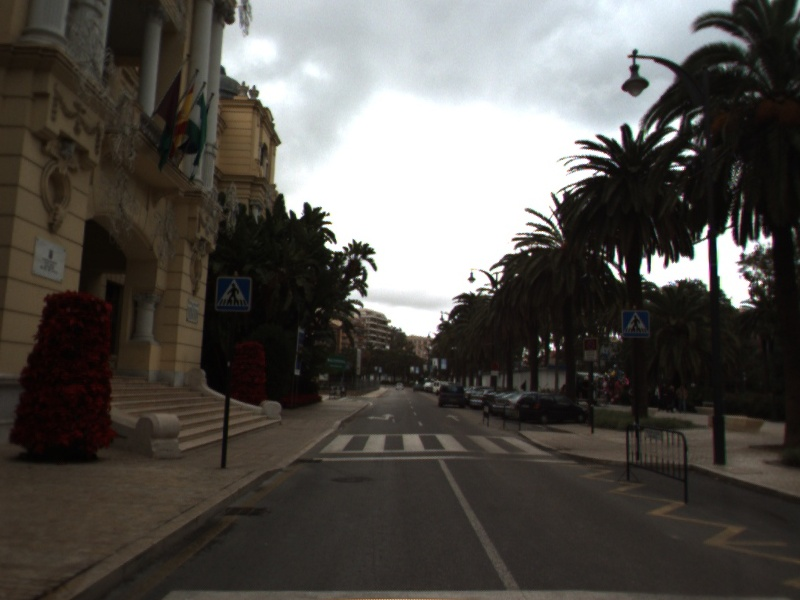STRAIGHT: (444, 411, 463, 424)
STRAIGHT_LEFT: (365, 411, 397, 423)
